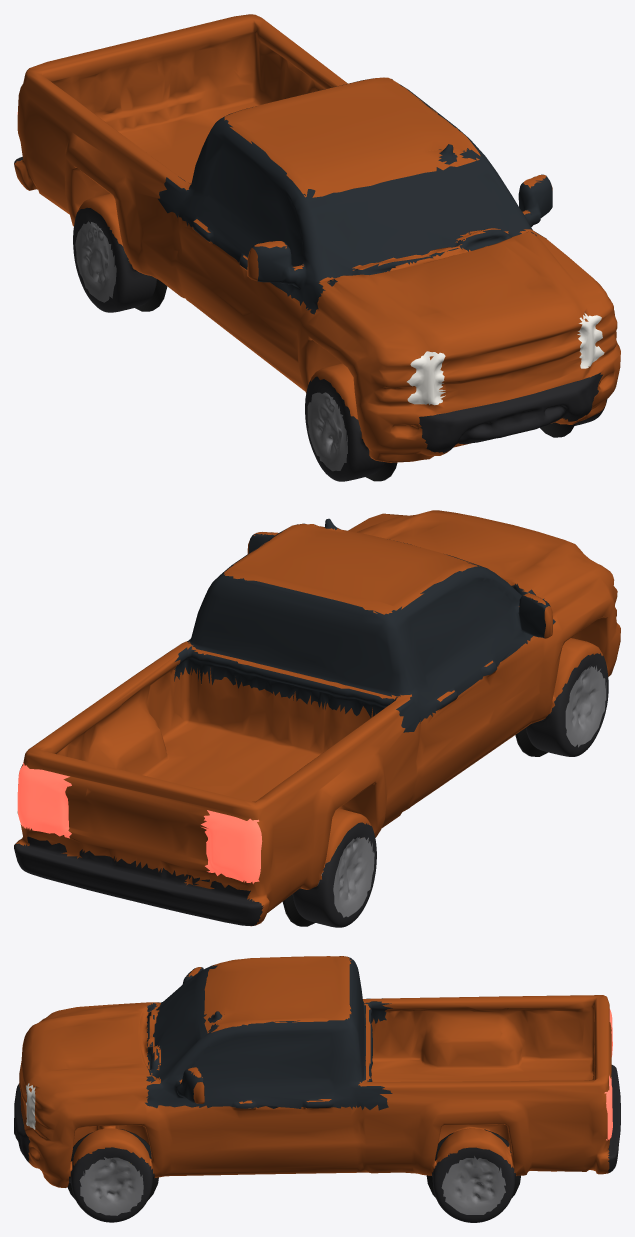
The model's file is Pickup.fbx.
The picture shows the model from 3 angles, top to bottom: view 1: azimuth 30°, elevation 25°; view 2: azimuth 150°, elevation 25°; view 3: azimuth 270°, elevation 25°; orthographic projection. The views are drawn at different scales.
Parts seen in each view (by area): view 1: Body_Paint, Glass, Body_Trim, Wheel_RL_tyre, LightsFront, Wheel_FL_tyre, Wheel_RL_rim, Wheel_FL_rim; view 2: Body_Paint, Glass, Body_Trim, LightsRear, Wheel_RL_tyre, Wheel_FL_tyre, Wheel_RL_rim, Wheel_FL_rim; view 3: Body_Paint, Glass, Wheel_FR_rim, Wheel_RR_rim, Wheel_RR_tyre, Wheel_FR_tyre, Body_Trim, LightsRear, Well_FR, LightsFront, Well_RR.
Part boxes in pixels (box(x1,y1,x2,y2)): Body_Paint: box(14, 14, 620, 462); Glass: box(158, 79, 552, 314); Body_Trim: box(14, 157, 602, 453); Wheel_RL_tyre: box(73, 207, 156, 312); LightsFront: box(407, 313, 604, 405); Wheel_FL_tyre: box(305, 376, 384, 481); Wheel_RL_rim: box(75, 221, 122, 302); Wheel_FL_rim: box(307, 392, 347, 471); Body_Paint: box(14, 510, 620, 926); Glass: box(168, 518, 555, 732); Body_Trim: box(14, 593, 535, 925); LightsRear: box(17, 763, 262, 883); Wheel_RL_tyre: box(292, 822, 376, 927); Wheel_FL_tyre: box(526, 653, 608, 756); Wheel_RL_rim: box(317, 837, 374, 917); Wheel_FL_rim: box(565, 665, 606, 747); Body_Paint: box(19, 956, 611, 1187); Glass: box(145, 956, 392, 1110); Wheel_FR_rim: box(79, 1157, 143, 1215); Wheel_RR_rim: box(441, 1156, 505, 1214); Wheel_RR_tyre: box(432, 1147, 515, 1222); Wheel_FR_tyre: box(69, 1147, 154, 1222); Body_Trim: box(14, 1065, 620, 1172); LightsRear: box(604, 1009, 612, 1140); Well_FR: box(67, 1129, 158, 1200); LightsFront: box(26, 1083, 35, 1129); Well_RR: box(426, 1129, 520, 1198).
Size of the model in its own units: 944 by 747 by 2100.
